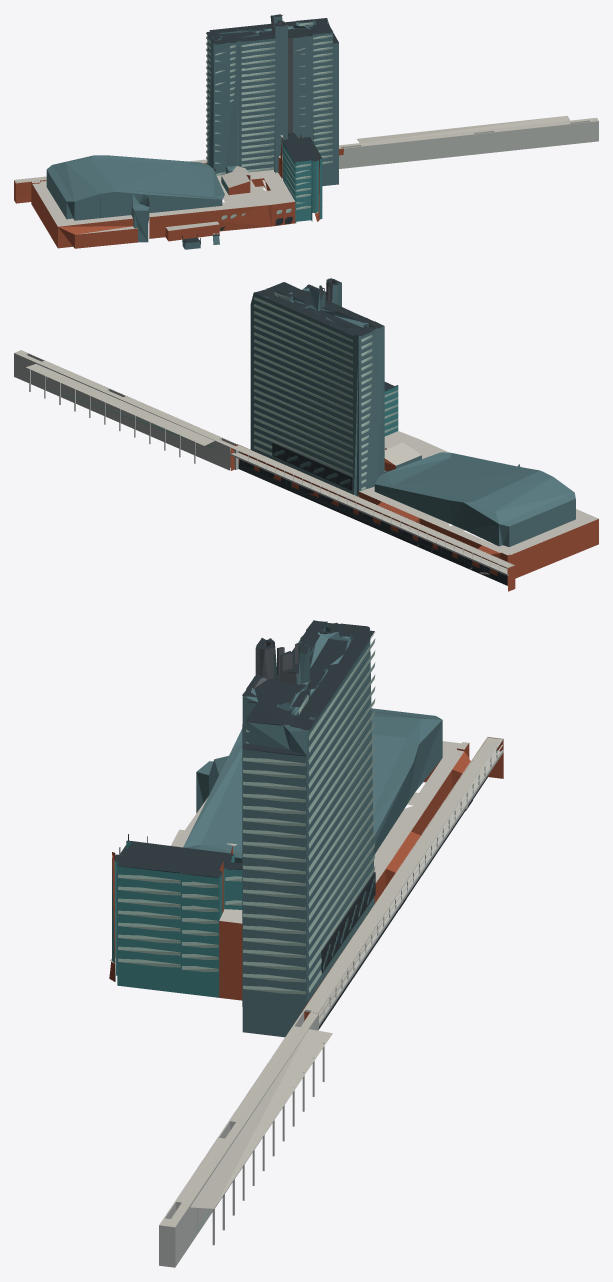
The model's file is ij-toren.lod1.glb.
3 views of the same model, one above another, from view 1: azimuth 30°, elevation 25°; view 2: azimuth 150°, elevation 25°; view 3: azimuth 270°, elevation 25° (orthographic). The views are drawn at different scales.
Visible parts, largest first — view 1: ij-toren; view 2: ij-toren; view 3: ij-toren.
Part boxes in pixels (bbox=[...]): ij-toren: bbox=[14, 14, 598, 249]; ij-toren: bbox=[14, 278, 598, 591]; ij-toren: bbox=[109, 620, 503, 1267].
Size of the model in its own units: 282 by 87.82 by 92.94.
